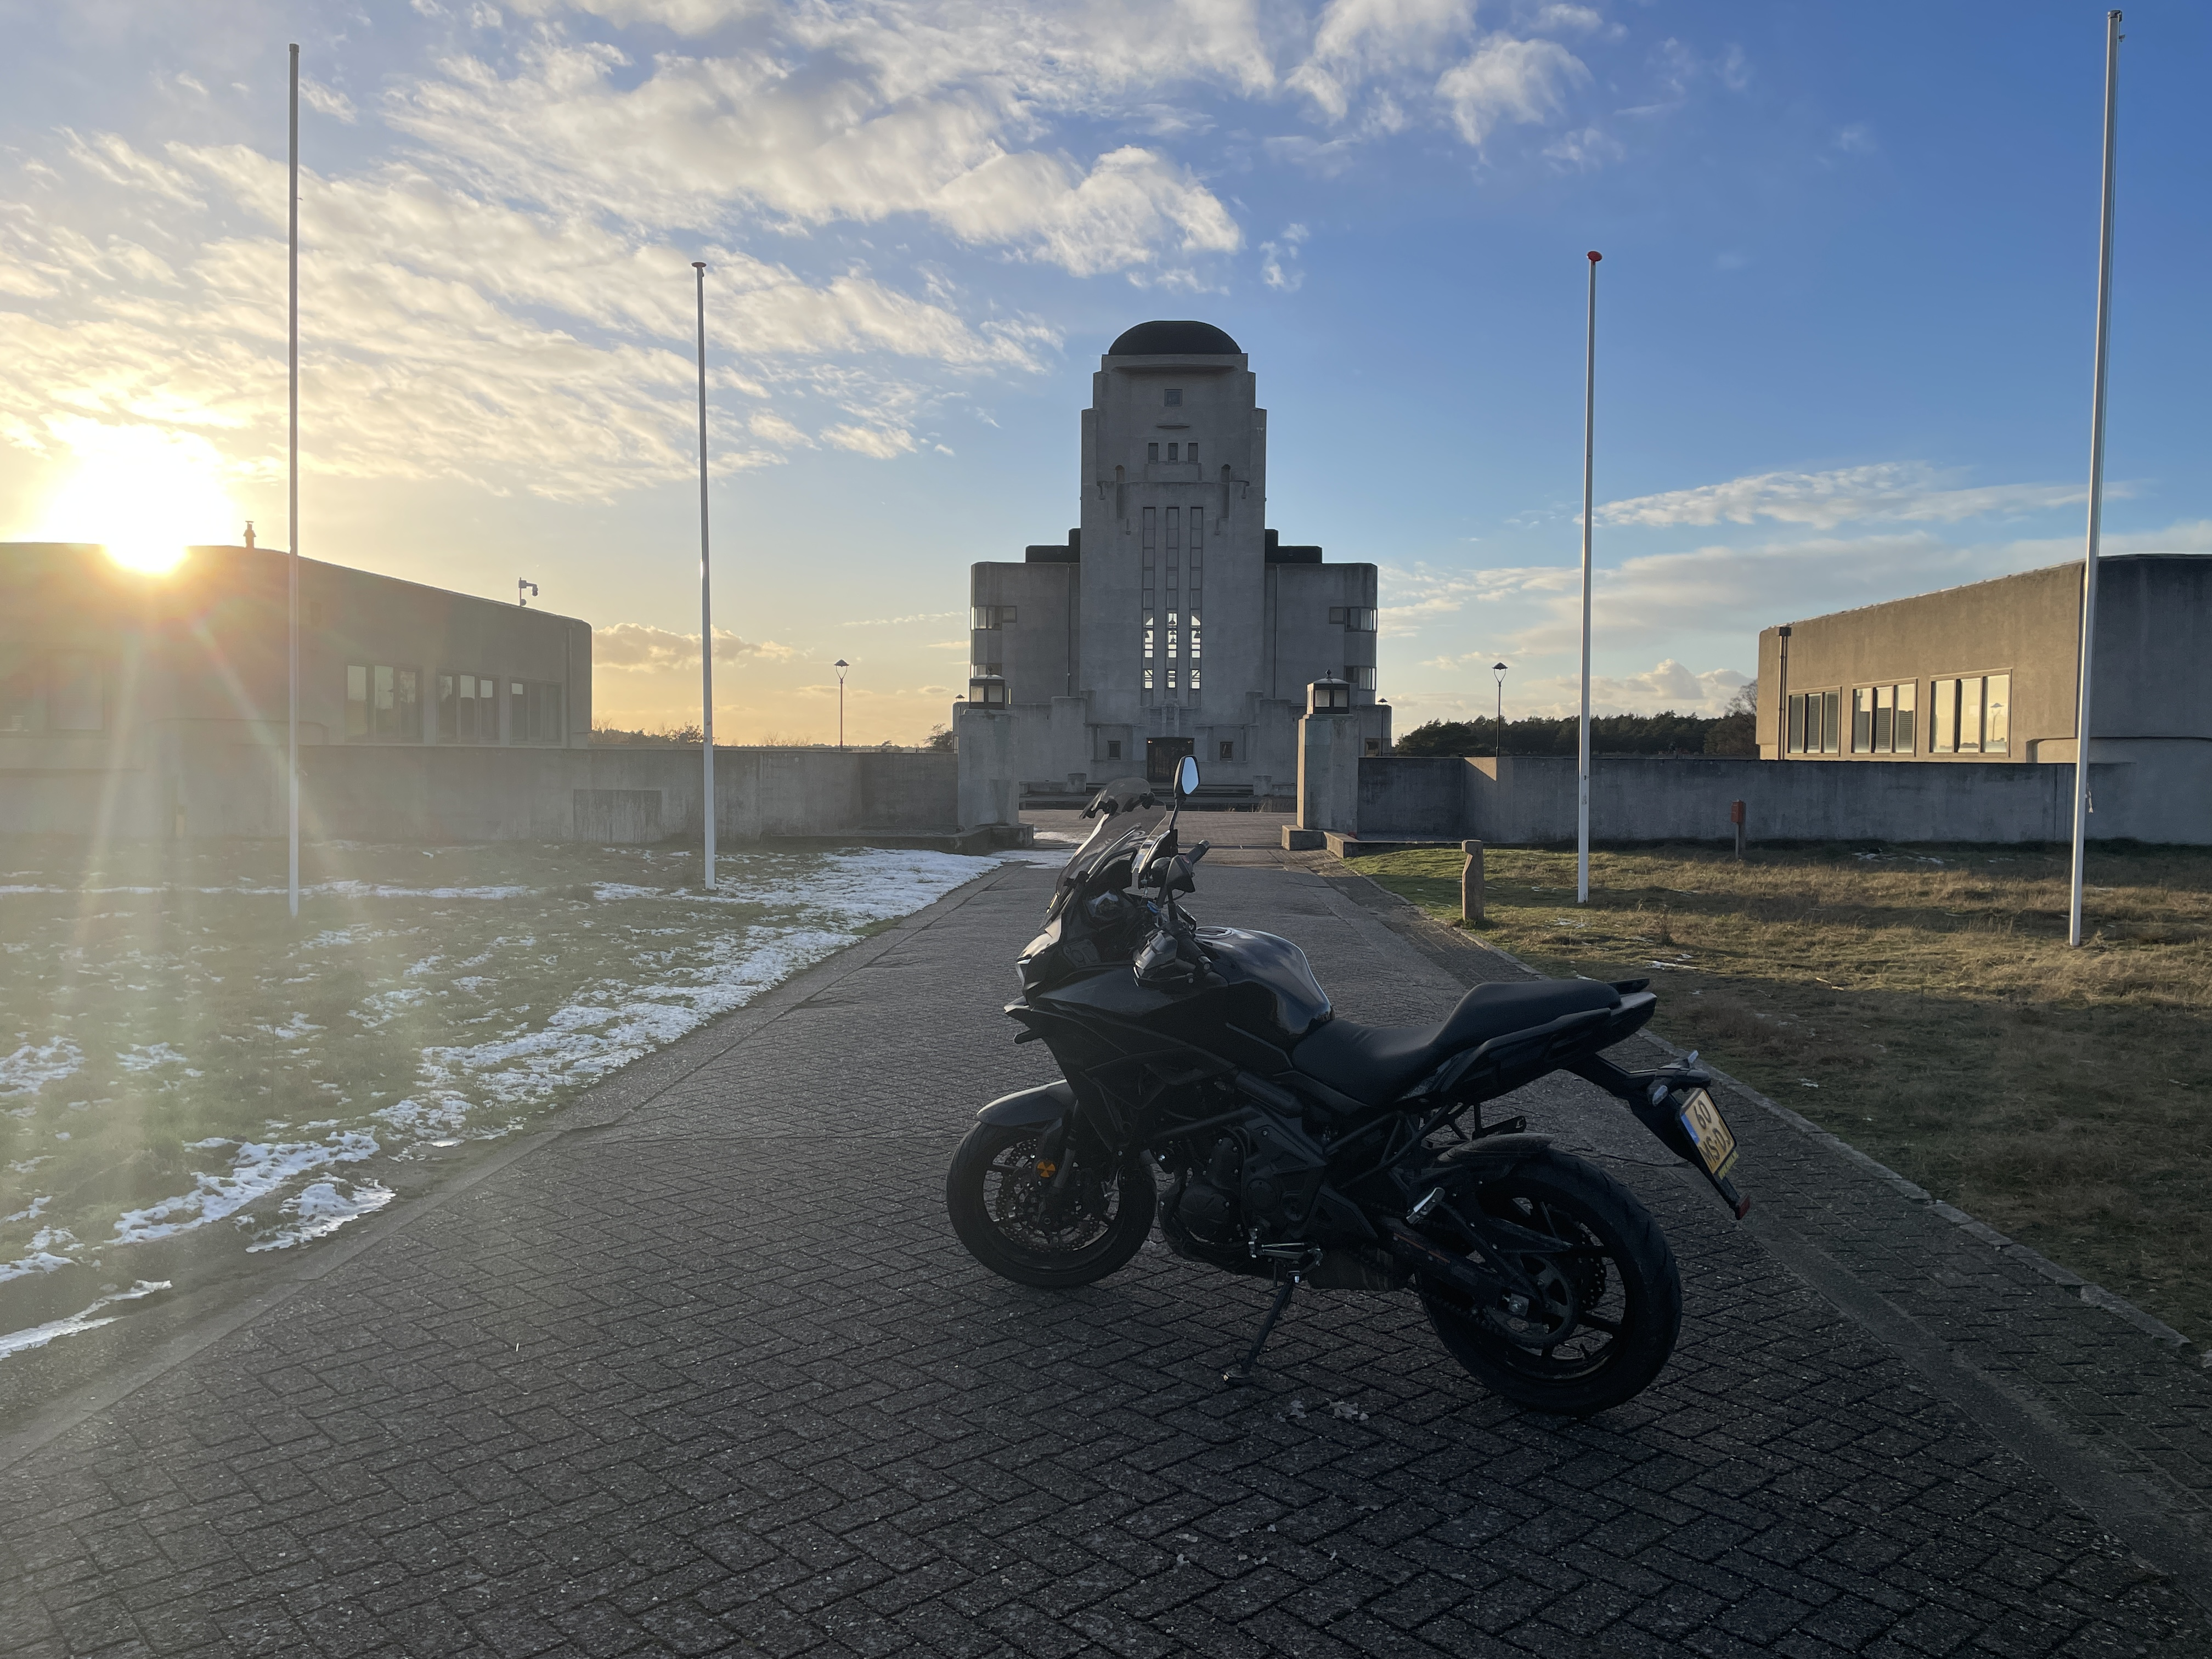motorcycle: (941, 744, 1730, 1419)
